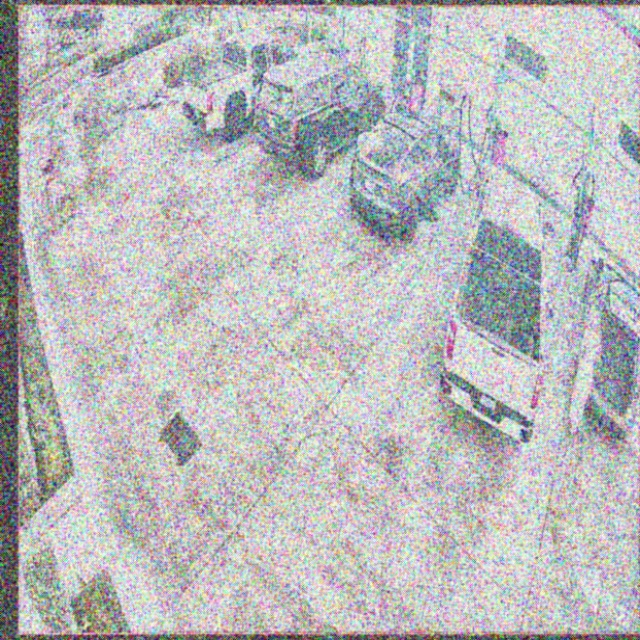Car: (440, 173, 553, 443), (252, 54, 384, 177), (350, 108, 462, 239)
